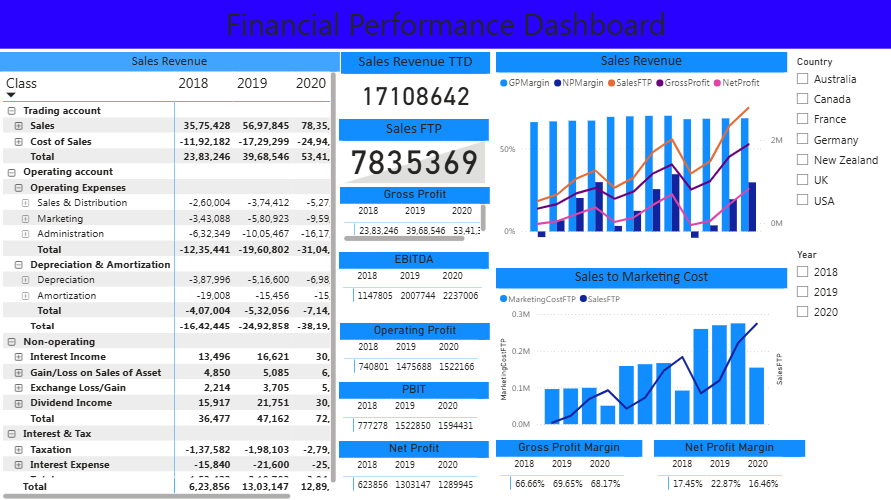

The page's visual inventory and layout, read from the dashboard file:
{"tool":"powerbi","page":{"name":"Duplicate of P&L","canvas":[1280,720],"ordinal":3},"visuals":[{"type":"pivotTable","title":"Sales Revenue","fields":{"Columns":["tbl_Calendar.Date.Variation.Date Hierarchy.Year","tbl_Calendar.Date.Variation.Date Hierarchy.Quarter","tbl_Calendar.Date.Variation.Date Hierarchy.Month","tbl_Calendar.Date.Variation.Date Hierarchy.Day"],"Rows":["tbl_ChartofAccounts.Class","tbl_ChartofAccounts.SubClass","tbl_ChartofAccounts.SubClass2","tbl_ChartofAccounts.Account"],"Values":["tbl_GL.Total_FTP"]},"box":[2.9,75.7,487.1,644.3],"z":0},{"type":"slicer","fields":{"Values":["tbl_territory.Country"]},"box":[1130,75.7,150,264.3],"z":1000},{"type":"pivotTable","title":"Gross Profit","fields":{"Values":["tbl_GL.Total_FTP"],"Columns":["tbl_Calendar.Date.Variation.Date Hierarchy.Year","tbl_Calendar.Date.Variation.Date Hierarchy.Quarter","tbl_Calendar.Date.Variation.Date Hierarchy.Month","tbl_Calendar.Date.Variation.Date Hierarchy.Day"]},"box":[490,268.6,214.3,82.9],"z":2000},{"type":"pivotTable","title":"EBITDA","fields":{"Values":["Sum(tbl_GL.Amount)"],"Columns":["tbl_Calendar.Date.Variation.Date Hierarchy.Year","tbl_Calendar.Date.Variation.Date Hierarchy.Quarter","tbl_Calendar.Date.Variation.Date Hierarchy.Month","tbl_Calendar.Date.Variation.Date Hierarchy.Day"]},"box":[488.6,361.4,214.3,88.6],"z":3000},{"type":"pivotTable","title":"PBIT","fields":{"Values":["Sum(tbl_GL.Amount)"],"Columns":["tbl_Calendar.Date.Variation.Date Hierarchy.Year","tbl_Calendar.Date.Variation.Date Hierarchy.Quarter","tbl_Calendar.Date.Variation.Date Hierarchy.Month","tbl_Calendar.Date.Variation.Date Hierarchy.Day"]},"box":[488.6,547.1,214.3,84.3],"z":4000},{"type":"pivotTable","title":"Net Profit","fields":{"Values":["Sum(tbl_GL.Amount)"],"Columns":["tbl_Calendar.Date.Variation.Date Hierarchy.Year","tbl_Calendar.Date.Variation.Date Hierarchy.Quarter","tbl_Calendar.Date.Variation.Date Hierarchy.Month","tbl_Calendar.Date.Variation.Date Hierarchy.Day"]},"box":[488.6,631.4,214.3,78.6],"z":5000},{"type":"pivotTable","title":"Operating Profit","fields":{"Values":["Sum(tbl_GL.Amount)"],"Columns":["tbl_Calendar.Date.Variation.Date Hierarchy.Year","tbl_Calendar.Date.Variation.Date Hierarchy.Quarter","tbl_Calendar.Date.Variation.Date Hierarchy.Month","tbl_Calendar.Date.Variation.Date Hierarchy.Day"]},"box":[490,462.9,214.3,78.6],"z":6000},{"type":"card","title":"Sales Revenue TTD","fields":{"Values":["Sum(tbl_GL.Amount)"]},"box":[491.4,75.7,212.9,92.9],"z":7000},{"type":"kpi","title":"Sales FTP","fields":{"Indicator":["Sum(tbl_GL.Amount)"],"TrendLine":["tbl_Calendar.Date.Variation.Date Hierarchy.Year"]},"box":[488.6,171.4,214.3,97.1],"z":8000},{"type":"slicer","fields":{"Values":["tbl_Calendar.Year"]},"box":[1130,351.4,150,135.7],"z":9000},{"type":"lineClusteredColumnComboChart","title":"Sales Revenue","fields":{"Category":["tbl_Calendar.Date.Variation.Date Hierarchy.Year","tbl_Calendar.Date.Variation.Date Hierarchy.Quarter","tbl_Calendar.Date.Variation.Date Hierarchy.Month","tbl_Calendar.Date.Variation.Date Hierarchy.Day"],"Y2":["tbl_GL.SalesFTP","tbl_GL.GrossProfit","tbl_GL.NetProfit"],"Y":["tbl_GL.GPMargin","tbl_GL.NPMargin"]},"box":[712.9,75.7,415.7,310],"z":10000},{"type":"lineStackedColumnComboChart","title":"Sales to Marketing Cost","fields":{"Category":["tbl_Calendar.Date.Variation.Date Hierarchy.Year","tbl_Calendar.Date.Variation.Date Hierarchy.Quarter","tbl_Calendar.Date.Variation.Date Hierarchy.Month","tbl_Calendar.Date.Variation.Date Hierarchy.Day"],"Y":["tbl_GL.MarketingCostFTP"],"Y2":["tbl_GL.SalesFTP"]},"box":[712.9,384.3,415.7,237.1],"z":11000},{"type":"pivotTable","title":"Gross Profit Margin","fields":{"Columns":["tbl_Calendar.Date.Variation.Date Hierarchy.Year","tbl_Calendar.Date.Variation.Date Hierarchy.Quarter","tbl_Calendar.Date.Variation.Date Hierarchy.Month","tbl_Calendar.Date.Variation.Date Hierarchy.Day"],"Values":["tbl_GL.GPMaring"]},"box":[712.9,630,208.6,90],"z":12000},{"type":"pivotTable","title":"Net Profit Margin","fields":{"Columns":["tbl_Calendar.Date.Variation.Date Hierarchy.Year","tbl_Calendar.Date.Variation.Date Hierarchy.Quarter","tbl_Calendar.Date.Variation.Date Hierarchy.Month","tbl_Calendar.Date.Variation.Date Hierarchy.Day"],"Values":["tbl_GL.NPMargin"]},"box":[938.6,630,215.7,77.1],"z":13000},{"type":"textbox","box":[2.9,0,1277.1,71.4],"z":14000}]}

Visuals, with their boxes in screenshot pixels (x1, y1, x2, y2), scaled from the page's 1280x720 canvas onto the 891x500 screenshot:
"Sales Revenue" pivotTable: locate(2, 53, 341, 499)
slicer - tbl_territory.Country: locate(787, 53, 890, 236)
"Gross Profit" pivotTable: locate(341, 187, 490, 244)
"EBITDA" pivotTable: locate(340, 251, 489, 312)
"PBIT" pivotTable: locate(340, 380, 489, 438)
"Net Profit" pivotTable: locate(340, 438, 489, 493)
"Operating Profit" pivotTable: locate(341, 321, 490, 376)
"Sales Revenue TTD" card: locate(342, 53, 490, 117)
"Sales FTP" kpi: locate(340, 119, 489, 186)
slicer - tbl_Calendar.Year: locate(787, 244, 890, 338)
"Sales Revenue" lineClusteredColumnComboChart: locate(496, 53, 786, 268)
"Sales to Marketing Cost" lineStackedColumnComboChart: locate(496, 267, 786, 432)
"Gross Profit Margin" pivotTable: locate(496, 438, 641, 499)
"Net Profit Margin" pivotTable: locate(653, 438, 804, 491)
textbox: locate(2, 0, 890, 50)
